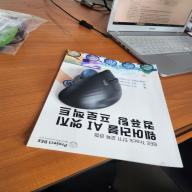Mouse: (58, 69, 123, 110)
